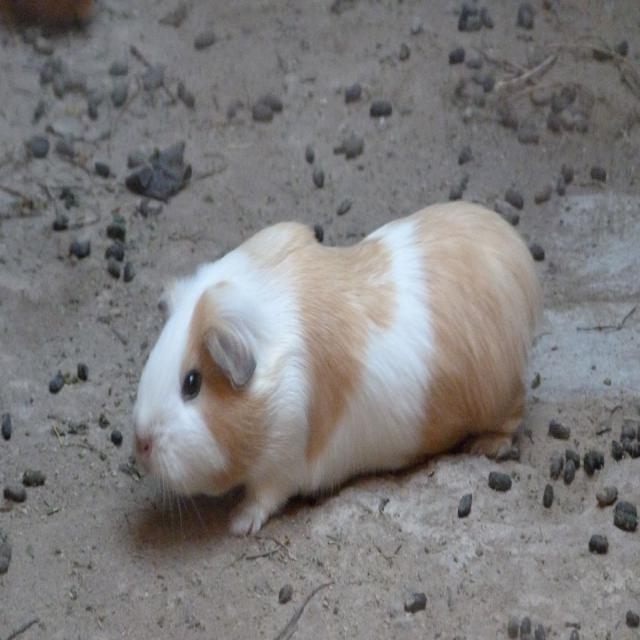guinea pig: (130, 181, 561, 541)
